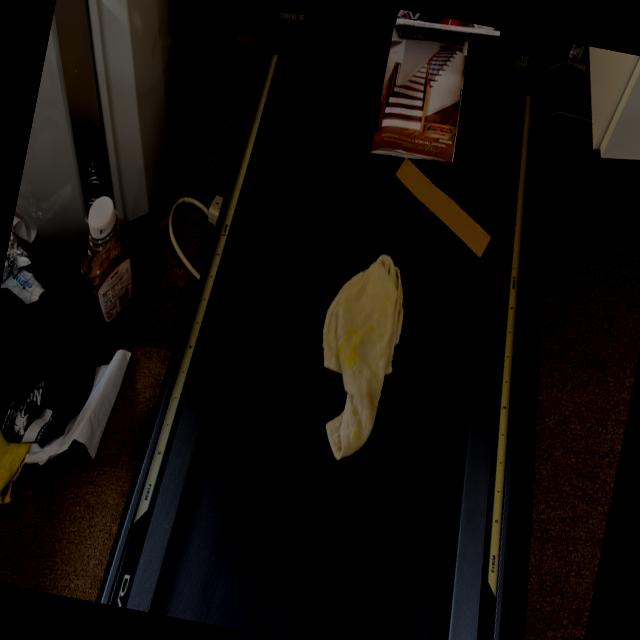Recycle: (370, 24, 478, 163), (377, 156, 504, 262)
Trash: (299, 242, 417, 470)
